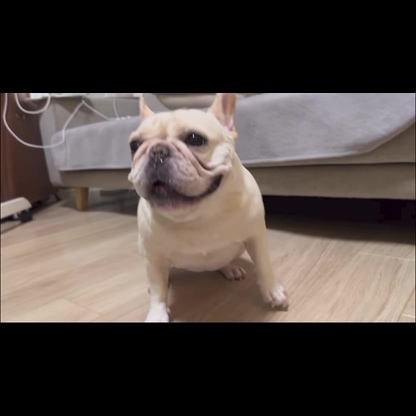bulldog: (123, 93, 294, 321)
